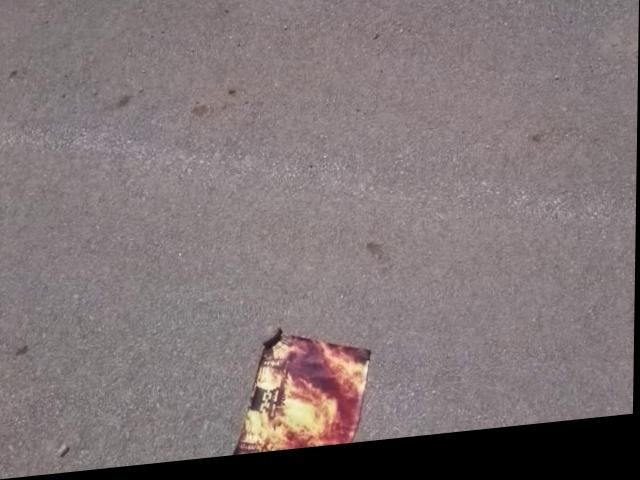fire-poster: (230, 325, 376, 460)
